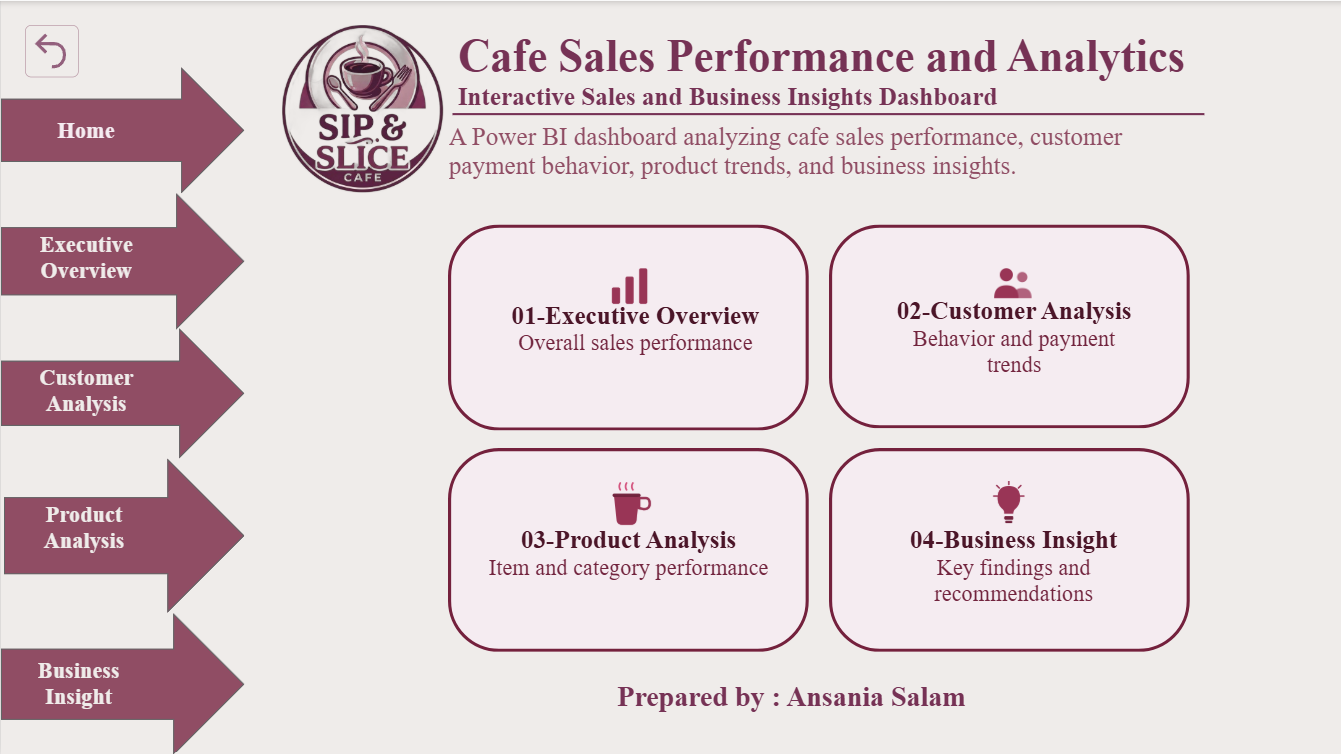

What the dashboard file says about the page in this screenshot:
{"tool":"powerbi","page":{"name":"Home","canvas":[1280,720],"ordinal":0},"visuals":[{"type":"textbox","box":[249.5,0,1029.9,73.7],"z":0},{"type":"group","id":"g1","title":"Group 5","box":[0,62.4,232.4,120.9],"z":0,"group":"g4"},{"type":"image","box":[245.7,22.7,198.4,160.1],"z":1000,"group":"g8"},{"type":"shape","box":[430.9,73.7,718.1,69.9],"z":1000},{"type":"group","id":"g2","title":"Group 6","box":[0,183.3,232.4,130.4],"z":1000,"group":"g4"},{"type":"textbox","box":[430.9,22.7,848.5,99.8],"z":2000,"group":"g8"},{"type":"group","id":"g3","title":"Group 7","box":[0,311.9,232.4,124.7],"z":2000,"group":"g4"},{"type":"shape","box":[427.1,427,344.5,194.7],"z":2000,"group":"g11"},{"type":"textbox","box":[379.8,642.5,750.2,58.6],"z":2000},{"type":"group","id":"g4","title":"Group 10","box":[0,62.4,232.4,657.6],"z":3000},{"type":"shape","box":[427.1,213.5,344.5,196.8],"z":3000,"group":"g9"},{"type":"group","id":"g5","title":"Group 8","box":[0,584,232.4,136.1],"z":3000,"group":"g4"},{"type":"textbox","box":[422.1,110.2,727.6,128.5],"z":4000,"group":"g8"},{"type":"group","id":"g6","title":"Group 11","box":[427.1,213.5,708.7,408.2],"z":4000},{"type":"shape","box":[791.3,213.5,344.5,194.7],"z":4000,"group":"g10"},{"type":"group","id":"g7","title":"Group 9","box":[0,436.6,232.4,147.4],"z":4000,"group":"g4"},{"type":"group","id":"g8","title":"Group 12","box":[245.7,22.7,1033.7,216],"z":5000},{"type":"shape","box":[791.3,427,344.5,194.7],"z":5000,"group":"g12"},{"type":"actionButton","box":[0,0,51.5,50],"z":6000},{"type":"group","id":"g9","title":"Group 1","box":[427.1,213.5,344.5,196.8],"z":6000,"group":"g6"},{"type":"group","id":"g10","title":"Group 2","box":[791.3,213.5,344.5,194.7],"z":7000,"group":"g6"},{"type":"group","id":"g11","title":"Group 3","box":[427.1,427,344.5,194.7],"z":8000,"group":"g6"},{"type":"group","id":"g12","title":"Group 4","box":[791.3,427,344.5,194.7],"z":9000,"group":"g6"},{"type":"textbox","box":[475.3,244.9,260.6,148.6],"z":10000,"group":"g9"},{"type":"textbox","box":[841.3,240.7,253.5,152.8],"z":11000,"group":"g10"},{"type":"textbox","box":[445,441.7,310.6,163.3],"z":12000,"group":"g11"},{"type":"textbox","box":[814.5,441.7,307,163.3],"z":13000,"group":"g12"},{"type":"image","box":[562.8,244.9,75,52.3],"z":14000,"group":"g9"},{"type":"image","box":[944.8,234.4,44.6,69.1],"z":15000,"group":"g10"},{"type":"image","box":[566.3,458.4,67.8,48.1],"z":16000,"group":"g11"},{"type":"image","box":[932.3,458.4,62.5,48.1],"z":17000,"group":"g12"},{"type":"shape","box":[0,584,232.4,136.1],"z":19000,"group":"g5"},{"type":"shape","box":[0,62.4,232.4,120.9],"z":20000,"group":"g1"},{"type":"shape","box":[0,311.9,232.4,124.7],"z":21000,"group":"g3"},{"type":"shape","box":[0,183.3,232.4,130.4],"z":22000,"group":"g2"},{"type":"shape","box":[2.8,436.6,229.6,147.4],"z":23000,"group":"g7"},{"type":"textbox","box":[0,104.9,162.4,39.7],"z":23005,"group":"g1"},{"type":"textbox","box":[0,214.4,162.9,64.2],"z":23007,"group":"g2"},{"type":"textbox","box":[0,342.1,162.9,66.4],"z":23009,"group":"g3"},{"type":"textbox","box":[0,472.8,158.7,64.1],"z":23011,"group":"g7"},{"type":"textbox","box":[0,620.9,148.4,70],"z":23012,"group":"g5"}]}

Visuals, with their boxes in screenshot pixels (x1, y1, x2, y2), scaled from the page's 1280x720 canvas onto the 1341x754 screenshot:
textbox: (261,0,1340,77)
"Group 5" group: (0,65,243,192)
image: (257,24,465,191)
shape: (451,77,1204,150)
"Group 6" group: (0,192,243,329)
textbox: (451,24,1340,128)
"Group 7" group: (0,327,243,457)
shape: (447,447,808,651)
textbox: (398,673,1184,734)
"Group 10" group: (0,65,243,753)
shape: (447,224,808,430)
"Group 8" group: (0,612,243,753)
textbox: (442,115,1204,250)
"Group 11" group: (447,224,1190,651)
shape: (829,224,1190,427)
"Group 9" group: (0,457,243,612)
"Group 12" group: (257,24,1340,250)
shape: (829,447,1190,651)
actionButton: (0,0,54,52)
"Group 1" group: (447,224,808,430)
"Group 2" group: (829,224,1190,427)
"Group 3" group: (447,447,808,651)
"Group 4" group: (829,447,1190,651)
textbox: (498,256,771,412)
textbox: (881,252,1147,412)
textbox: (466,463,792,634)
textbox: (853,463,1175,634)
image: (590,256,668,311)
image: (990,245,1037,318)
image: (593,480,664,530)
image: (977,480,1042,530)
shape: (0,612,243,753)
shape: (0,65,243,192)
shape: (0,327,243,457)
shape: (0,192,243,329)
shape: (3,457,243,612)
textbox: (0,110,170,151)
textbox: (0,225,171,292)
textbox: (0,358,171,428)
textbox: (0,495,166,562)
textbox: (0,650,155,724)
